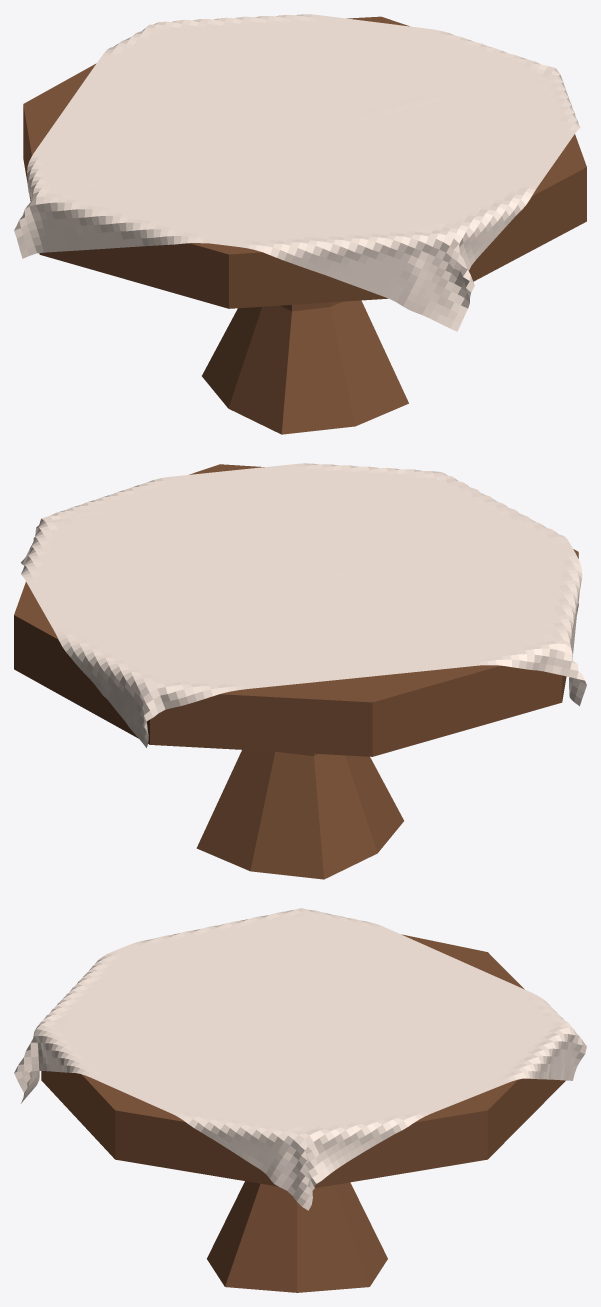
The model's file is Table.fbx.
3 renders of one model, top to bottom at view 1: azimuth 30°, elevation 25°; view 2: azimuth 150°, elevation 25°; view 3: azimuth 270°, elevation 25°, orthographic. The views are drawn at different scales.
Visible parts, largest first — view 1: Plane.001, Cube.008; view 2: Plane.001, Cube.008; view 3: Plane.001, Cube.008.
Boxes of the visible parts, left/top/right/bottom form: Plane.001: left=14, top=14, right=580, bottom=331; Cube.008: left=23, top=16, right=586, bottom=434; Plane.001: left=21, top=463, right=586, bottom=747; Cube.008: left=14, top=464, right=578, bottom=879; Plane.001: left=14, top=908, right=586, bottom=1210; Cube.008: left=41, top=934, right=565, bottom=1292.
Bounding box in the file's own units: 352 × 157 × 347.
